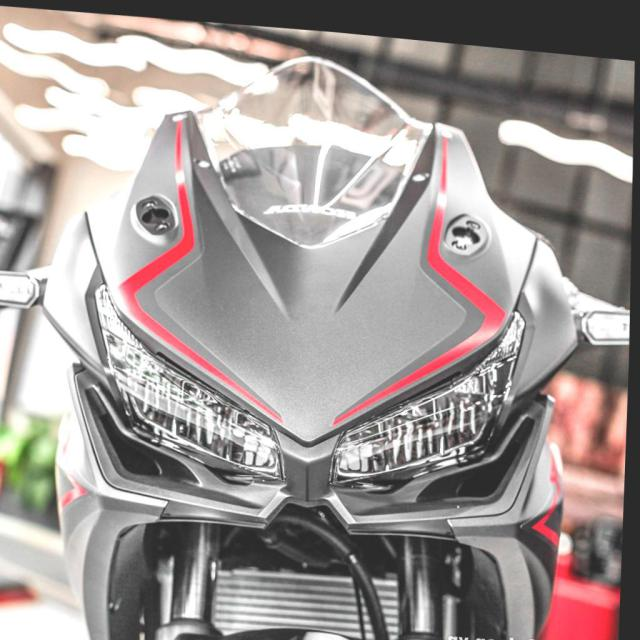CBR500R: (0, 16, 639, 639)
